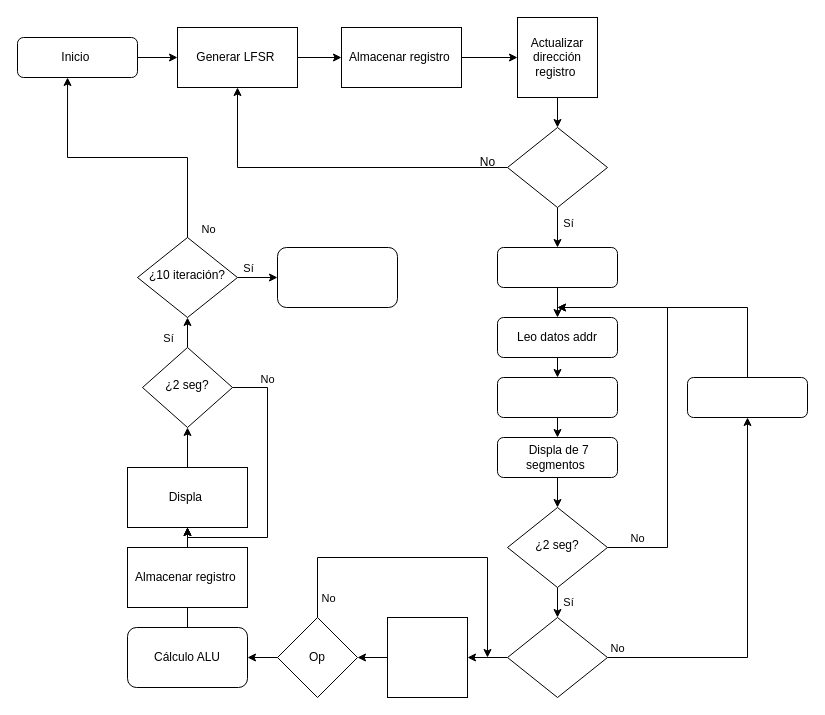
Some shapes in this 825 by 715 pixel diagram are drawn without their labels. The centre of each missing label's shape, as x and y in pixels:
addr=addr+1: point 747,397
addr=addr-2: point 557,267
Cambio modo: point 337,277
Esperar op: point 427,657
Operación ALU : no op: point 557,397
¿2 iteración?: point 557,657
¿Genero 2 datos?: point 557,167
